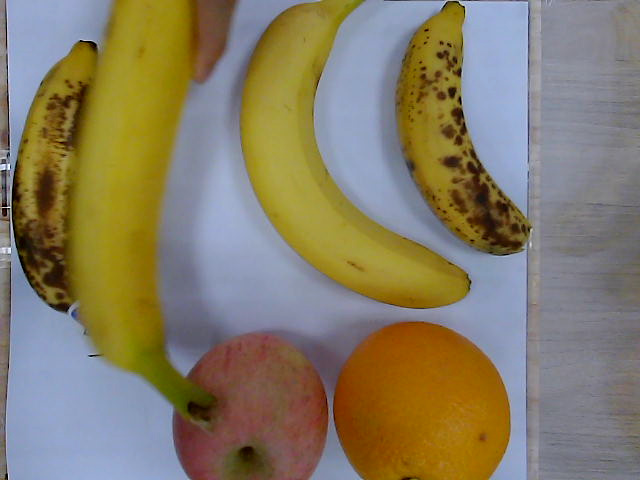fresh_apple: (172, 332, 329, 480)
fresh_banana: (246, 1, 473, 312), (71, 1, 208, 422)
fresh_orange: (333, 321, 511, 480)
rotten_banana: (396, 1, 531, 255), (13, 41, 97, 316)
